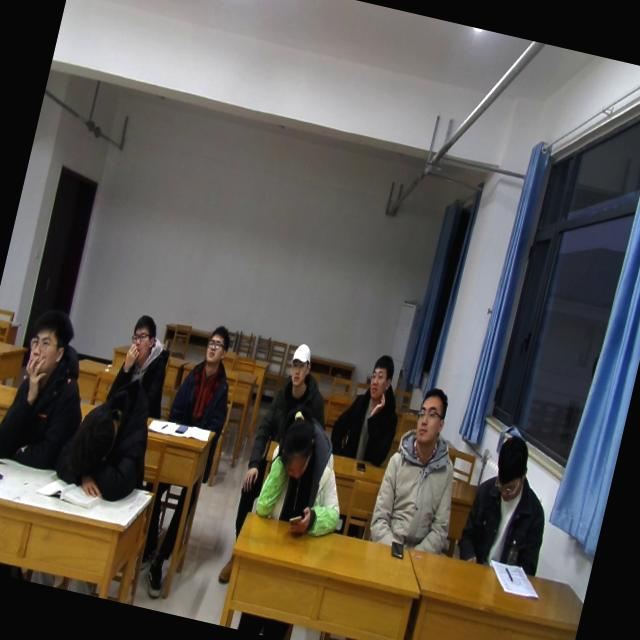bow: (47, 362, 170, 510), (248, 401, 363, 545)
down: (486, 426, 538, 508), (272, 408, 324, 486)
lookup: (16, 297, 81, 389), (408, 376, 456, 454), (121, 308, 160, 371), (362, 348, 402, 408), (280, 336, 316, 392), (198, 320, 234, 370)
sit: (363, 376, 480, 562), (0, 299, 105, 480), (453, 424, 568, 580), (324, 343, 416, 470), (100, 306, 184, 424), (254, 338, 340, 451), (167, 317, 247, 434)
